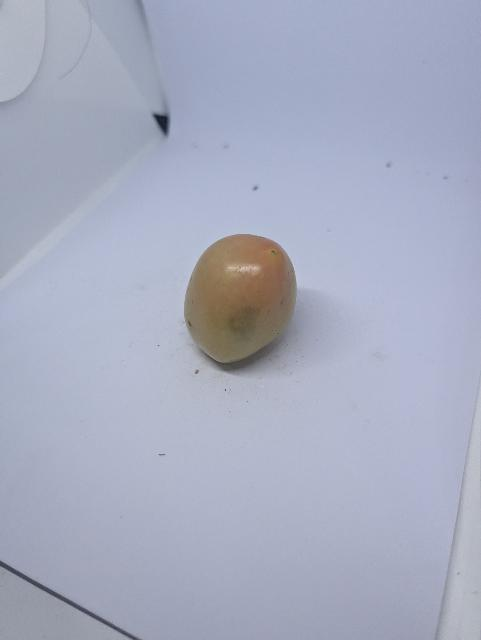breaker: (183, 228, 299, 370)
